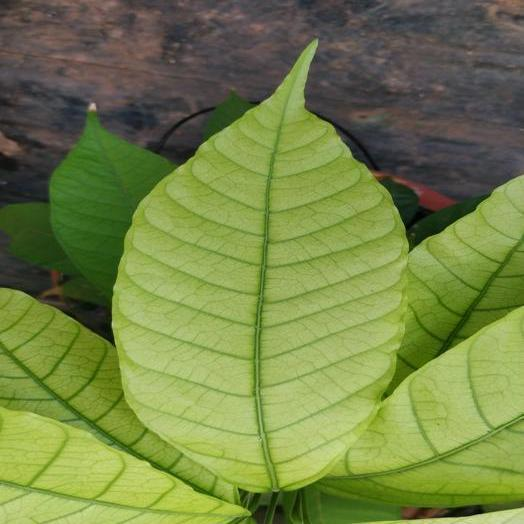Healthy Leaf: (50, 104, 174, 301)
Iron: (113, 42, 407, 491), (0, 288, 235, 500), (320, 307, 523, 506), (0, 406, 247, 523), (390, 175, 523, 391)
